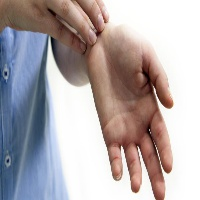ring: (63, 1, 96, 44), (126, 140, 142, 193)
